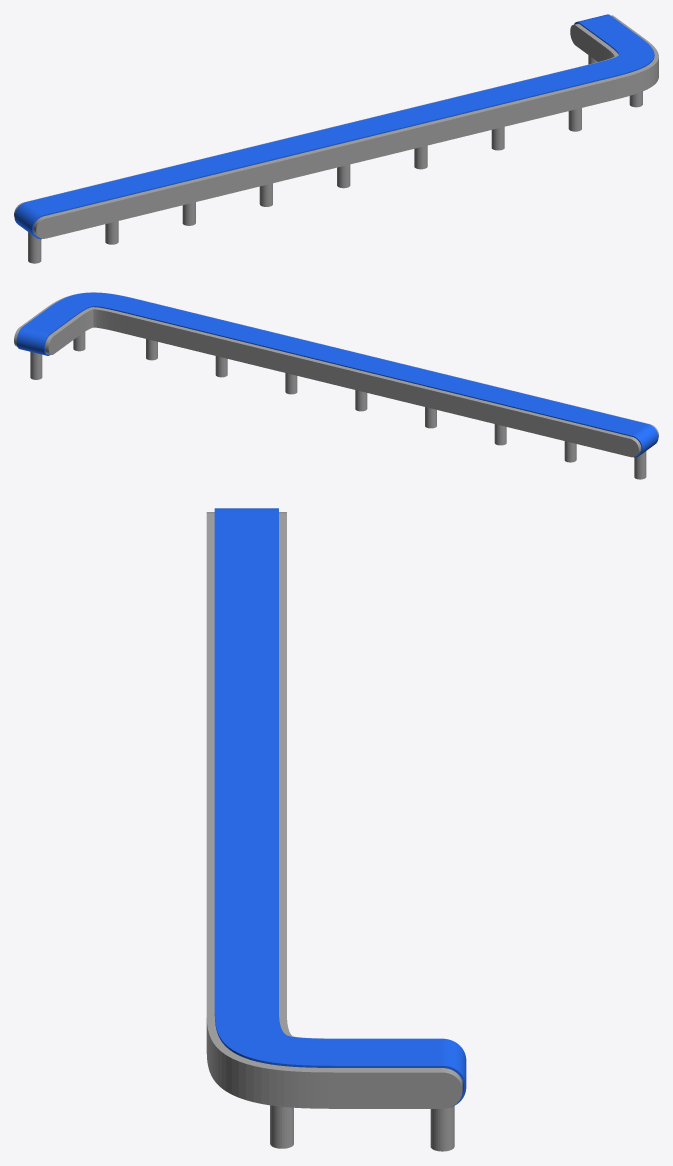
Rendered from 传送带灰.fbx.
3 views of the same model, one above another, from view 1: azimuth 30°, elevation 25°; view 2: azimuth 150°, elevation 25°; view 3: azimuth 270°, elevation 25° (orthographic). The views are drawn at different scales.
Visible parts, largest first — view 1: 传送带; view 2: 传送带; view 3: 传送带.
Boxes of the visible parts, x1=… form: 传送带: x1=14, y1=14, x2=658, y2=263; 传送带: x1=14, y1=292, x2=658, y2=479; 传送带: x1=206, y1=508, x2=466, y2=1151.
Size of the model in its own units: 1677 by 130 by 324.
